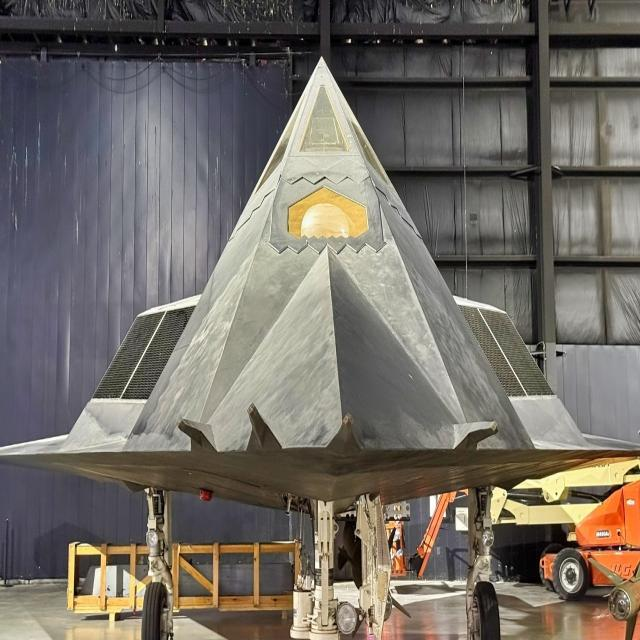F117: (0, 36, 636, 592)
